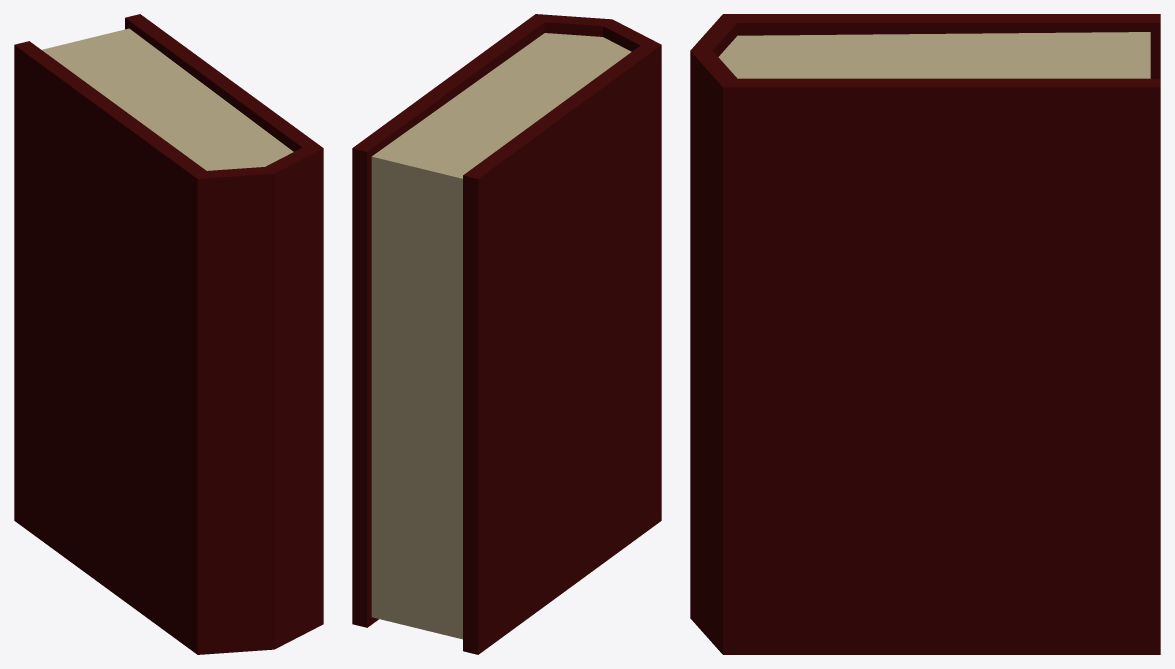
The model's file is Book.fbx.
3 views of the same model, side by side, from view 1: azimuth 30°, elevation 25°; view 2: azimuth 150°, elevation 25°; view 3: azimuth 270°, elevation 25° (orthographic). The views are drawn at different scales.
Visible parts, largest first — view 1: Plane.002; view 2: Plane.002; view 3: Plane.002.
Boxes of the visible parts, x1,y1,x2,y2 form: Plane.002: [14, 14, 323, 654]; Plane.002: [352, 14, 661, 654]; Plane.002: [690, 14, 1160, 654].
Size of the model in its own units: 542 by 721 by 200.
